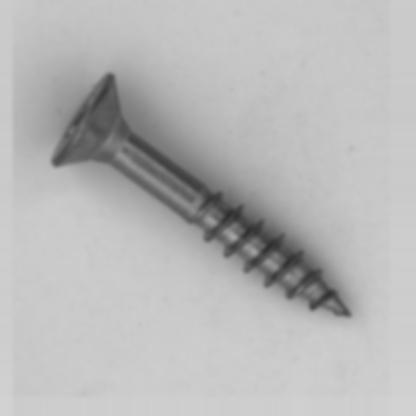metal: (50, 71, 352, 318)
